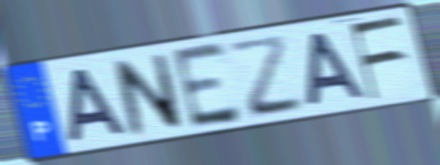A: (304, 30, 369, 110), (67, 65, 130, 146)
E: (168, 38, 245, 133)
F: (347, 13, 407, 104)
N: (110, 51, 186, 139)
Z: (225, 32, 309, 122)
